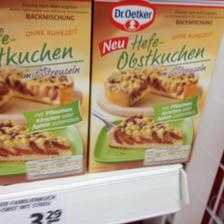Kuchen: (92, 0, 224, 168), (0, 2, 88, 180)
